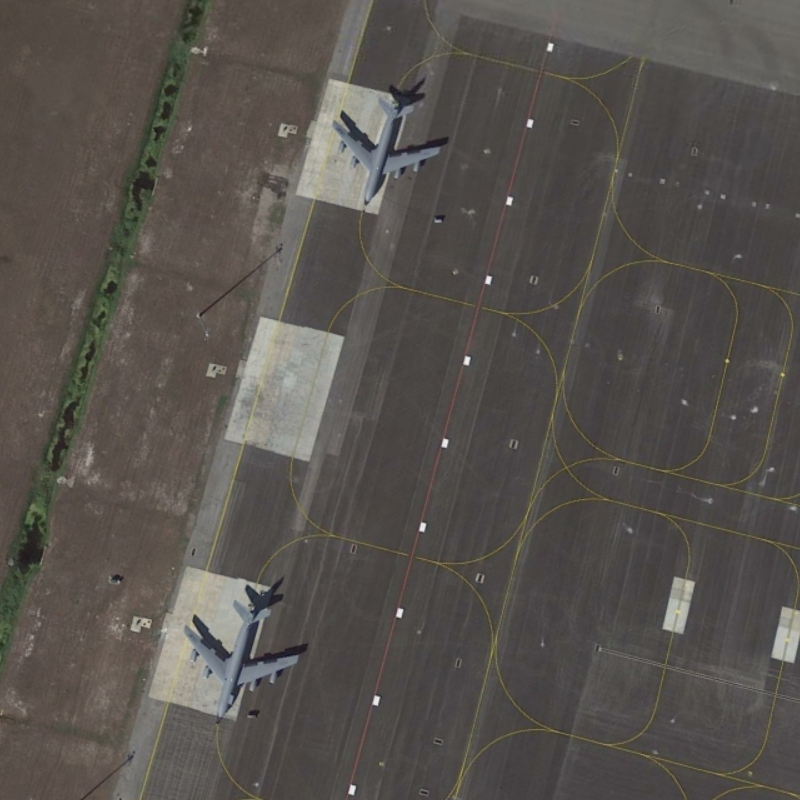A14: (179, 596, 302, 721), (329, 93, 445, 209)
